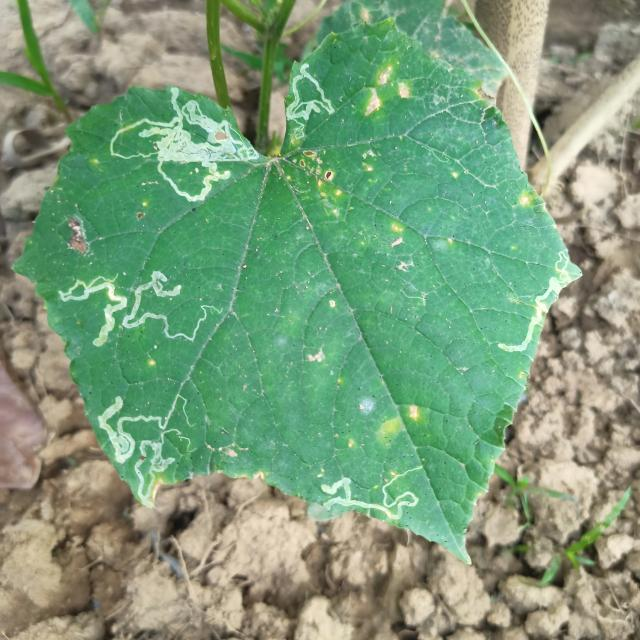disease_cucumber: (295, 146, 348, 217), (361, 63, 411, 119), (374, 398, 423, 452)
